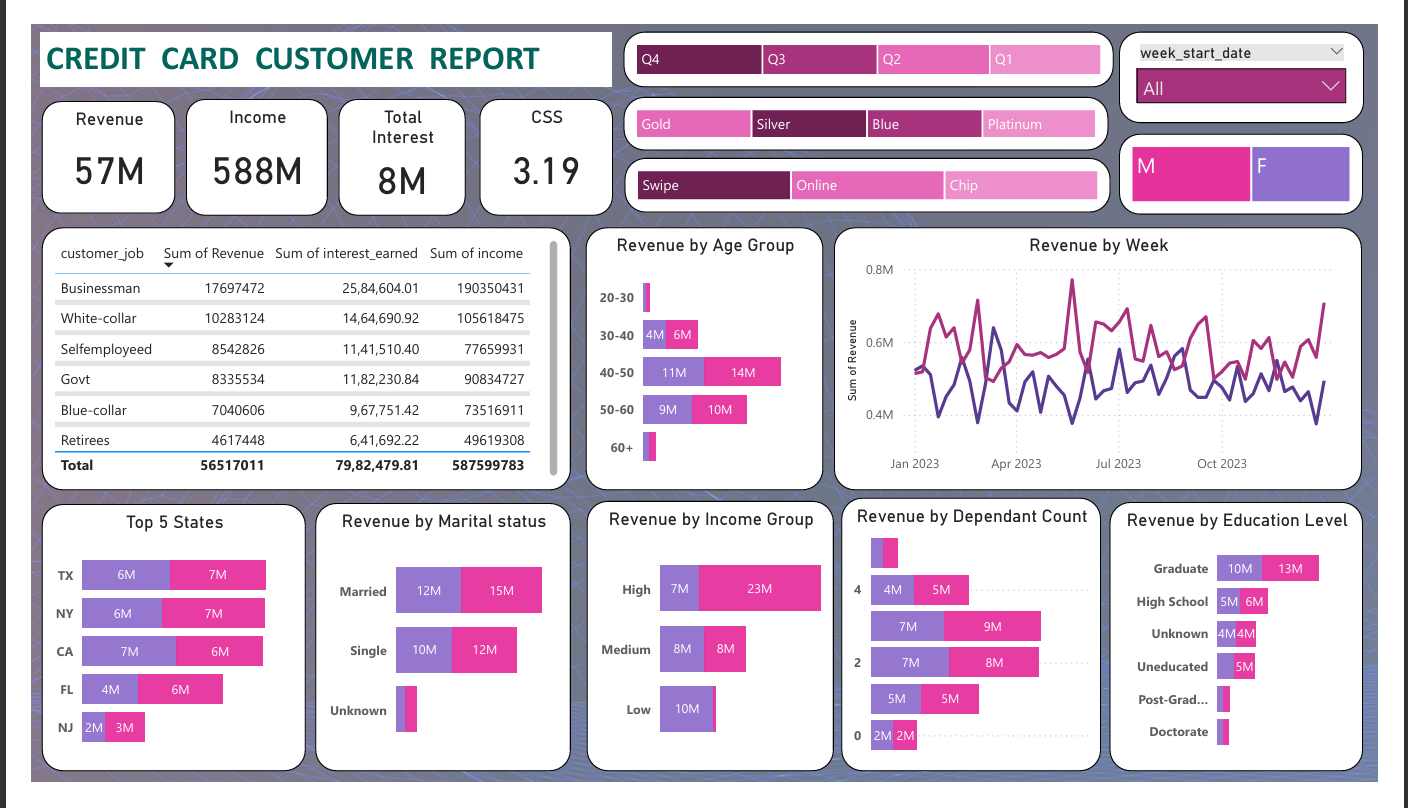

Layout of this report page (visuals, bound fields, positions):
{"tool":"powerbi","page":{"name":"CC Customer","canvas":[1280,720],"ordinal":1},"visuals":[{"type":"textbox","box":[9.2,8.3,542.5,51.7],"z":0},{"type":"barChart","title":"Revenue by Income Group","fields":{"Y":["Sum(public cc_detail.Revenue)"],"Category":["public cust_detail.Incomegroup"],"Series":["public cust_detail.gender"]},"box":[527.5,452.5,235,257.5],"z":1000},{"type":"tableEx","fields":{"Values":["public cust_detail.customer_job","Sum(public cc_detail.Revenue)","Sum(public cc_detail.interest_earned)","Sum(public cust_detail.income)"]},"box":[10,192.5,502.5,250],"z":2000},{"type":"card","title":"Revenue","fields":{"Values":["Sum(public cc_detail.Revenue)"]},"box":[10,72.9,127.1,107.1],"z":3000},{"type":"card","title":"Income","fields":{"Values":["Sum(public cust_detail.income)"]},"box":[147.4,71.1,134.2,110.5],"z":4000},{"type":"card","title":"Total Interest","fields":{"Values":["Sum(public cc_detail.interest_earned)"]},"box":[292.1,71.1,121.1,110.5],"z":5000},{"type":"card","title":"CSS","fields":{"Values":["Avg(public cust_detail.cust_satisfaction_score)"]},"box":[426.3,71.1,126.3,110.5],"z":6000},{"type":"slicer","fields":{"Values":["public cc_detail.week_start_date"]},"box":[1034.3,7.1,232.9,87.1],"z":7000},{"type":"treemap","fields":{"Group":["public cc_detail.qtr"],"Values":["Avg(public cc_detail.client_num)"]},"box":[563,7,466,53],"z":8000},{"type":"treemap","fields":{"Values":["Avg(public cc_detail.client_num)"],"Group":["public cc_detail.card_category"]},"box":[562.9,68.6,461.4,51.4],"z":9000},{"type":"lineChart","title":"Revenue by Week","fields":{"Y":["Sum(public cc_detail.Revenue)"],"Series":["public cust_detail.gender"],"Category":["public cc_detail.week_start_date.Variation.Date Hierarchy.Year","public cc_detail.week_start_date.Variation.Date Hierarchy.Month","public cc_detail.week_start_date.Variation.Date Hierarchy.Day"]},"box":[762.5,192.5,502.5,250],"z":10000},{"type":"treemap","fields":{"Group":["public cust_detail.gender"],"Values":["Sum(public cc_detail.Revenue)"]},"box":[1033.8,103.8,232.5,77.5],"z":11000},{"type":"barChart","title":"Revenue by Age Group","fields":{"Y":["Sum(public cc_detail.Revenue)"],"Category":["public cust_detail.AgeGroup"],"Series":["public cust_detail.gender"]},"box":[527.1,192.9,225.7,250],"z":12000},{"type":"barChart","title":"Revenue by Dependant Count","fields":{"Y":["Sum(public cc_detail.Revenue)"],"Category":["public cust_detail.dependent_count"],"Series":["public cust_detail.gender"]},"box":[770,450,246.7,260],"z":13000},{"type":"barChart","title":"Revenue by Education Level","fields":{"Y":["Sum(public cc_detail.Revenue)"],"Category":["public cust_detail.education_level"],"Series":["public cust_detail.gender"]},"box":[1025,453.8,241.2,256.2],"z":14000},{"type":"barChart","title":"Top 5 States","fields":{"Y":["Sum(public cc_detail.Revenue)"],"Category":["public cust_detail.state_cd"],"Series":["public cust_detail.gender"]},"box":[9.9,456.3,250.7,253.5],"z":15000},{"type":"barChart","title":"Revenue by Marital status","fields":{"Y":["Sum(public cc_detail.Revenue)"],"Category":["public cust_detail.marital_status"],"Series":["public cust_detail.gender"]},"box":[270.4,454.9,242.3,254.9],"z":16000},{"type":"treemap","fields":{"Values":["Avg(public cc_detail.client_num)"],"Group":["public cc_detail.use_chip"]},"box":[564.3,127.1,461.4,51.4],"z":17000}]}

Visuals, with their boxes in screenshot pixels (x1, y1, x2, y2), scaled from the page's 1280x720 canvas onto the 1408x808 screenshot:
textbox: [10,9,607,67]
"Revenue by Income Group" barChart: [580,508,839,797]
tableEx - public cust_detail.customer_job x Sum(public cc_detail.Revenue): [11,216,564,497]
"Revenue" card: [11,82,151,202]
"Income" card: [162,80,310,204]
"Total Interest" card: [321,80,455,204]
"CSS" card: [469,80,608,204]
slicer - public cc_detail.week_start_date: [1138,8,1394,106]
treemap - public cc_detail.qtr x Avg(public cc_detail.client_num): [619,8,1132,67]
treemap - Avg(public cc_detail.client_num) x public cc_detail.card_category: [619,77,1127,135]
"Revenue by Week" lineChart: [839,216,1392,497]
treemap - public cust_detail.gender x Sum(public cc_detail.Revenue): [1137,116,1393,203]
"Revenue by Age Group" barChart: [580,216,828,497]
"Revenue by Dependant Count" barChart: [847,505,1118,797]
"Revenue by Education Level" barChart: [1128,509,1393,797]
"Top 5 States" barChart: [11,512,287,797]
"Revenue by Marital status" barChart: [297,510,564,797]
treemap - Avg(public cc_detail.client_num) x public cc_detail.use_chip: [621,143,1128,200]
